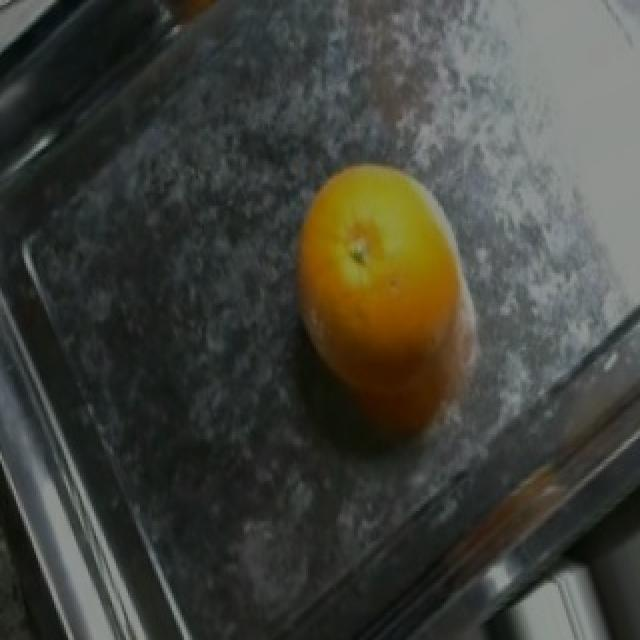Fruit: (268, 139, 498, 427)
